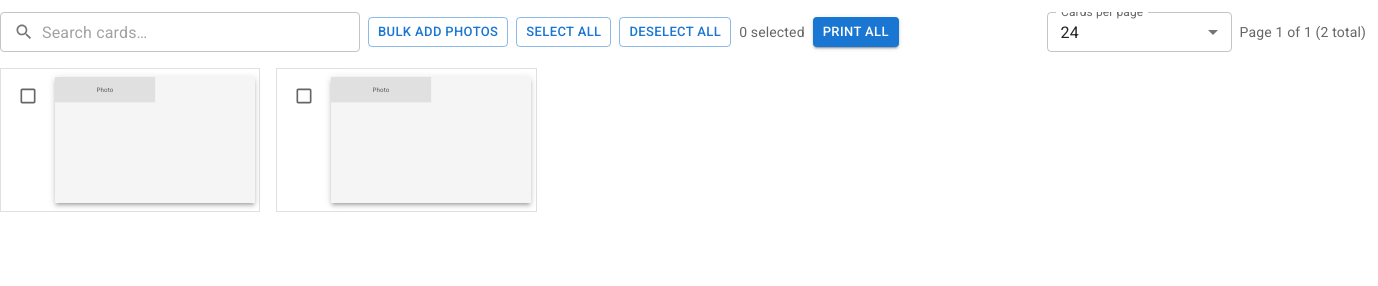
PreviewStep — search › Clear resets the search query
Type "ali" into the field labelled "Search cards" at (201, 32), box [42,12,360,52]
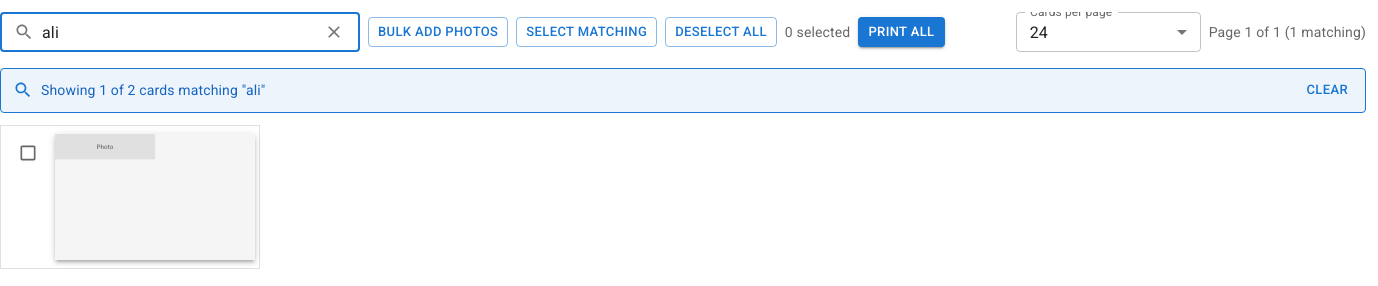
Now the text "Showing 1 of 2 cards matching \"ali\"" is shown, box [41,82,265,98]
Click the button "Clear" at (1327, 90), box [1302,75,1353,106]
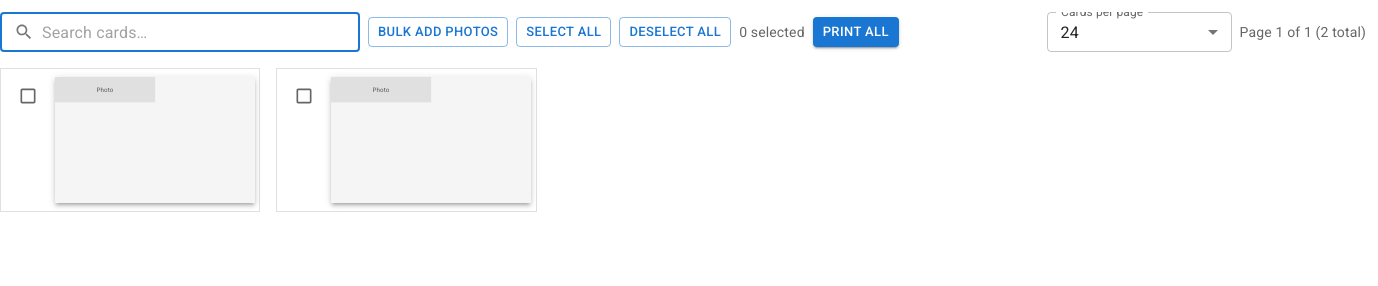
Now the button "Matching" is gone
Now the field labelled "Search cards" is empty, box [42,12,360,52]
